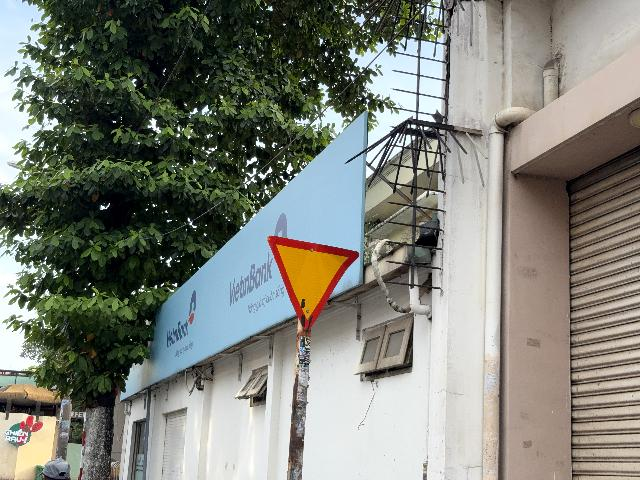giao-nhau-voi-duong-uu-tien: (267, 233, 360, 333)
